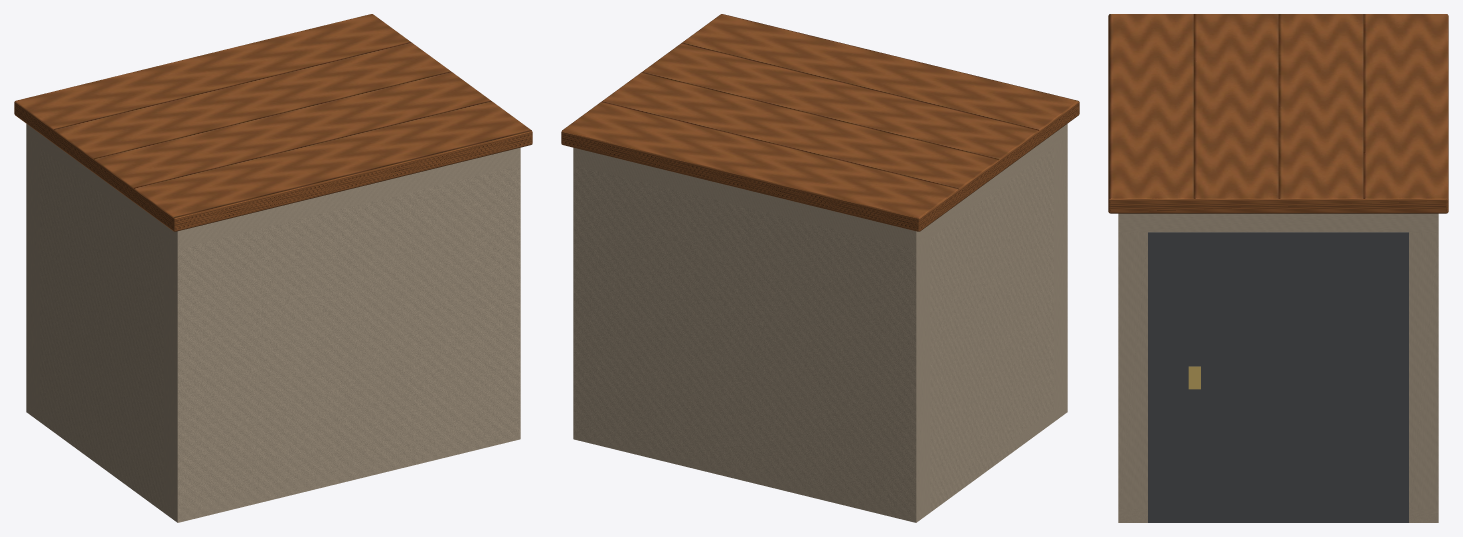
Rendered from wild-west-frontier-town-jail-cell-block-a023563d__30101.glb.
The picture shows the model from 3 angles, left to right: view 1: azimuth 30°, elevation 25°; view 2: azimuth 150°, elevation 25°; view 3: azimuth 270°, elevation 25°; orthographic projection. The views are drawn at different scales.
Visible parts, largest first — view 1: jail-cell-block; view 2: jail-cell-block; view 3: jail-cell-block.
Part boxes in pixels (x1,y1,x2,y2): jail-cell-block: [14, 14, 532, 522]; jail-cell-block: [561, 14, 1079, 522]; jail-cell-block: [1108, 14, 1448, 522].
Size of the model in its own units: 3.56 by 2.94 by 2.76.
4 materials, 2 textured.
